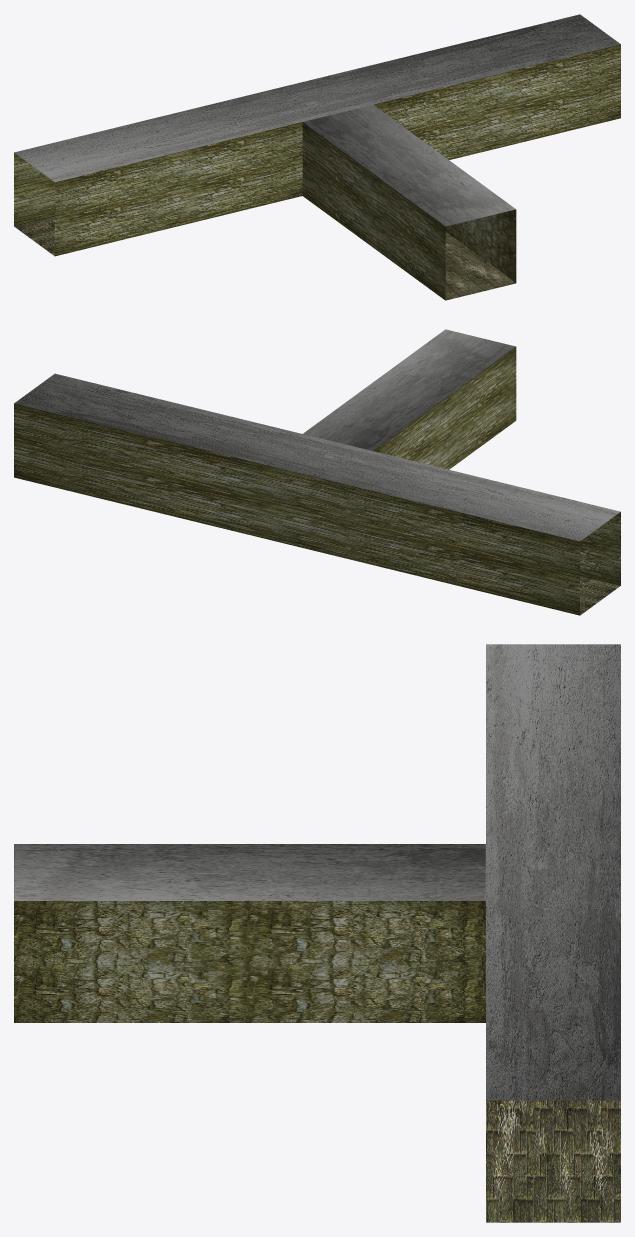
3 renders of one model, top to bottom at view 1: azimuth 30°, elevation 25°; view 2: azimuth 150°, elevation 25°; view 3: azimuth 270°, elevation 25°, orthographic. The views are drawn at different scales.
Parts seen in each view (by area): view 1: Toiture_1, Mur_2, Mur_2.001, Mur_3, Toiture_2, Mur_4, Sol_2, Mur_1, Sol_1; view 2: Mur_1, Toiture_1, Toiture_2, Mur_3, Mur_2, Sol_1; view 3: Toiture_1, Mur_4, Toiture_2, Sol_1.
Part boxes in pixels (x1,y1,x2,y2): Toiture_1: (14, 14, 620, 182); Mur_2: (55, 122, 302, 256); Mur_2.001: (374, 44, 620, 159); Mur_3: (302, 122, 445, 300); Toiture_2: (303, 104, 515, 226); Mur_4: (445, 209, 516, 282); Sol_2: (445, 232, 515, 300); Mur_1: (14, 152, 54, 226); Sol_1: (14, 216, 54, 256); Mur_1: (14, 403, 579, 615); Toiture_1: (14, 373, 620, 541); Toiture_2: (303, 329, 515, 450); Mur_3: (373, 347, 516, 469); Mur_2: (580, 512, 620, 585); Sol_1: (580, 576, 620, 615); Toiture_1: (486, 644, 620, 1100); Mur_4: (14, 901, 485, 1022); Toiture_2: (14, 844, 485, 900); Sol_1: (486, 1100, 620, 1222).
Size of the model in its own units: 32 by 4 by 18.
3 materials, 3 textured.
